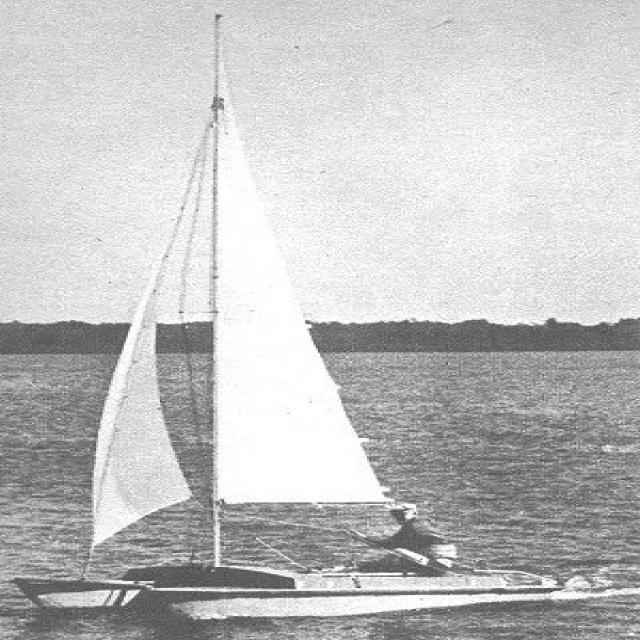Ship: (32, 17, 582, 623)
